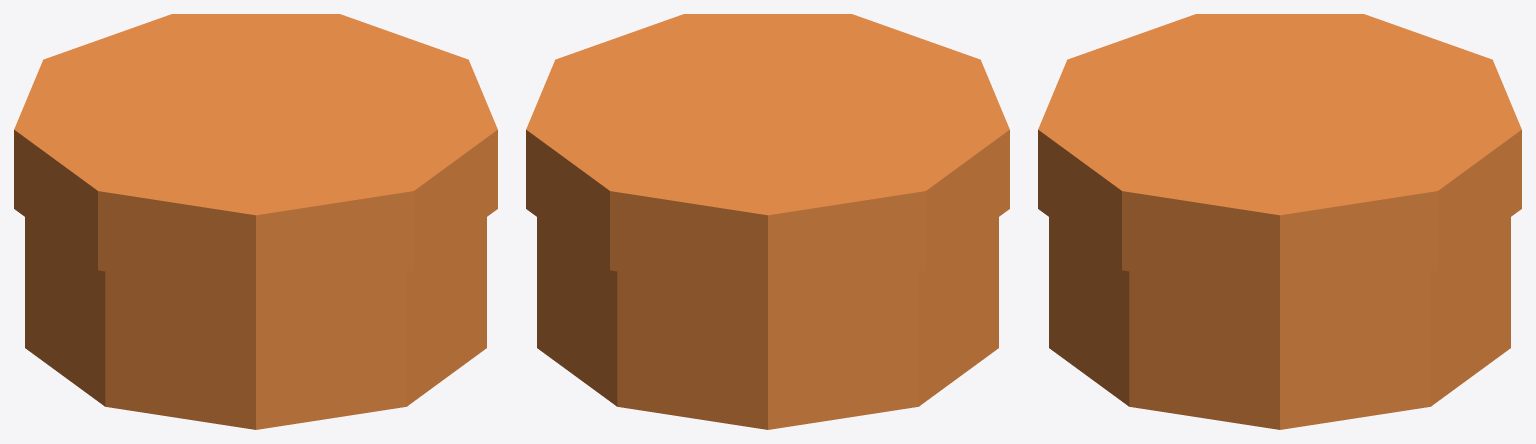
File: Office2_box_3.fbx
3 views of the same model, side by side, from view 1: azimuth 30°, elevation 25°; view 2: azimuth 150°, elevation 25°; view 3: azimuth 270°, elevation 25° (orthographic).
Parts seen in each view (by area): view 1: Office2_box_3; view 2: Office2_box_3; view 3: Office2_box_3.
Part boxes in pixels (left/top/right/bottom): Office2_box_3: left=14, top=14, right=497, bottom=429; Office2_box_3: left=526, top=14, right=1009, bottom=429; Office2_box_3: left=1038, top=14, right=1521, bottom=429.
Bounding box in the file's own units: 11.05 × 5.61 × 11.22.
